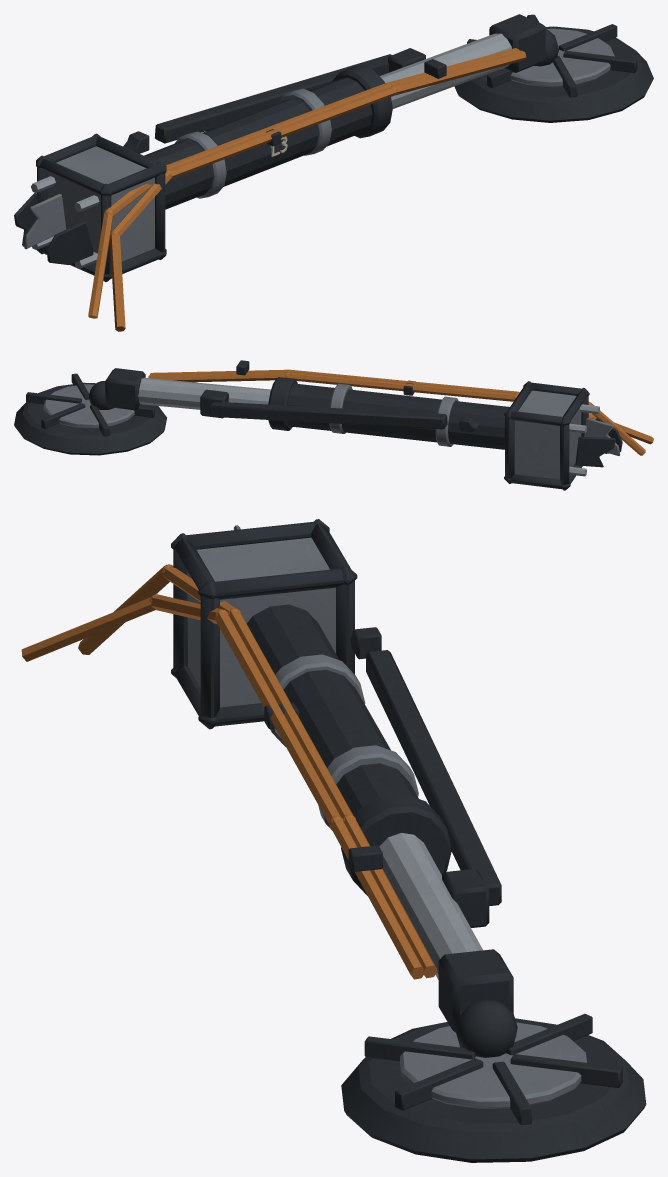
The model's file is lander_leg.glb.
3 views of the same model, one above another, from view 1: azimuth 30°, elevation 25°; view 2: azimuth 150°, elevation 25°; view 3: azimuth 270°, elevation 25° (orthographic). The views are drawn at different scales.
Parts seen in each view (by area): view 1: lander_leg; view 2: lander_leg; view 3: lander_leg.
Boxes of the visible parts, left/top/right/bottom form: lander_leg: left=14, top=14, right=653, bottom=331; lander_leg: left=14, top=360, right=653, bottom=490; lander_leg: left=21, top=519, right=646, bottom=1162.
Size of the model in its own units: 5.05 by 0.7247 by 2.57.
Materials: 5 (5 with a texture image).
